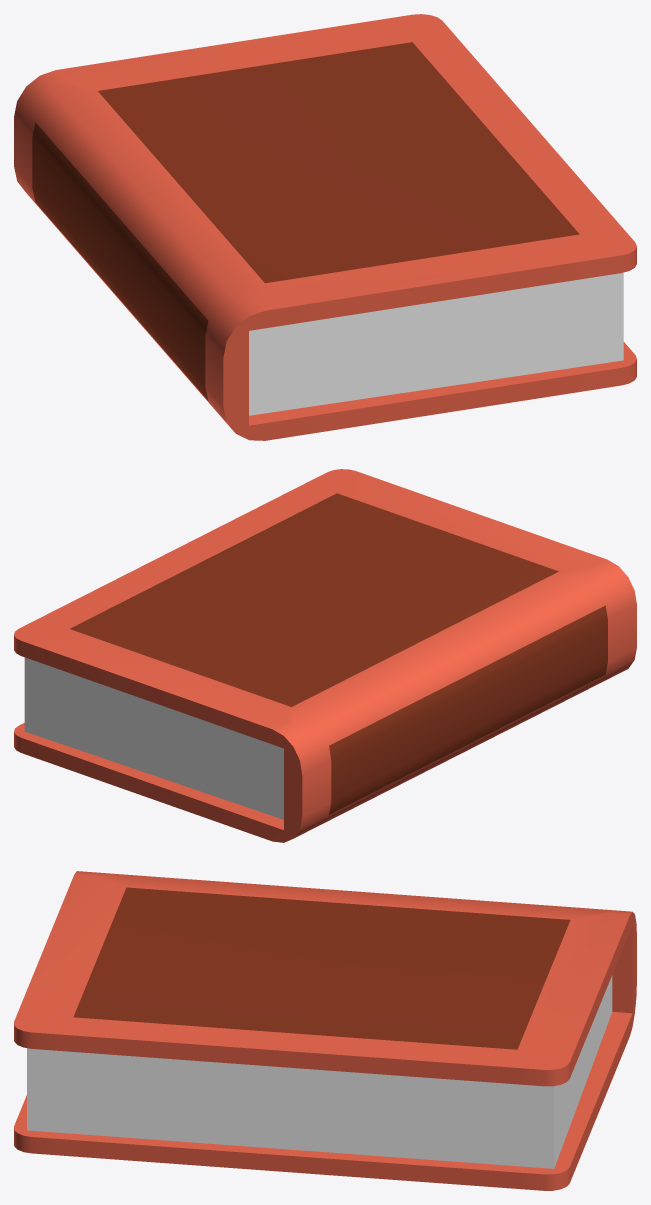
File: book_17.fbx
3 renders of one model, top to bottom at view 1: azimuth 30°, elevation 25°; view 2: azimuth 150°, elevation 25°; view 3: azimuth 270°, elevation 25°, orthographic. The views are drawn at different scales.
Visible parts, largest first — view 1: book_17; view 2: book_17; view 3: book_17.
Part boxes in pixels (bbox=[...]): book_17: bbox=[14, 14, 636, 440]; book_17: bbox=[14, 469, 636, 842]; book_17: bbox=[14, 871, 636, 1190].
Bounding box in the file's own units: 0.3334 × 0.0886 × 0.4133.
